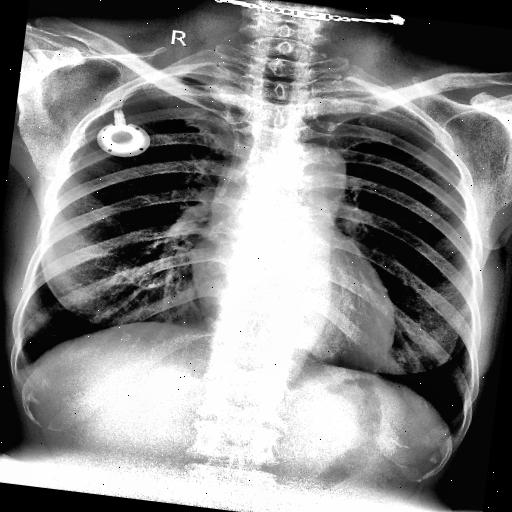0- Aortic enlargement: (293, 140, 350, 190)
10- Pleural effusion: (8, 352, 40, 378)
11- Pleural thickening: (172, 66, 253, 106), (8, 352, 40, 378)
7- Lung Opacity: (312, 73, 386, 112), (182, 60, 248, 96)
9- Other lesion: (312, 73, 386, 112), (182, 60, 248, 96)
